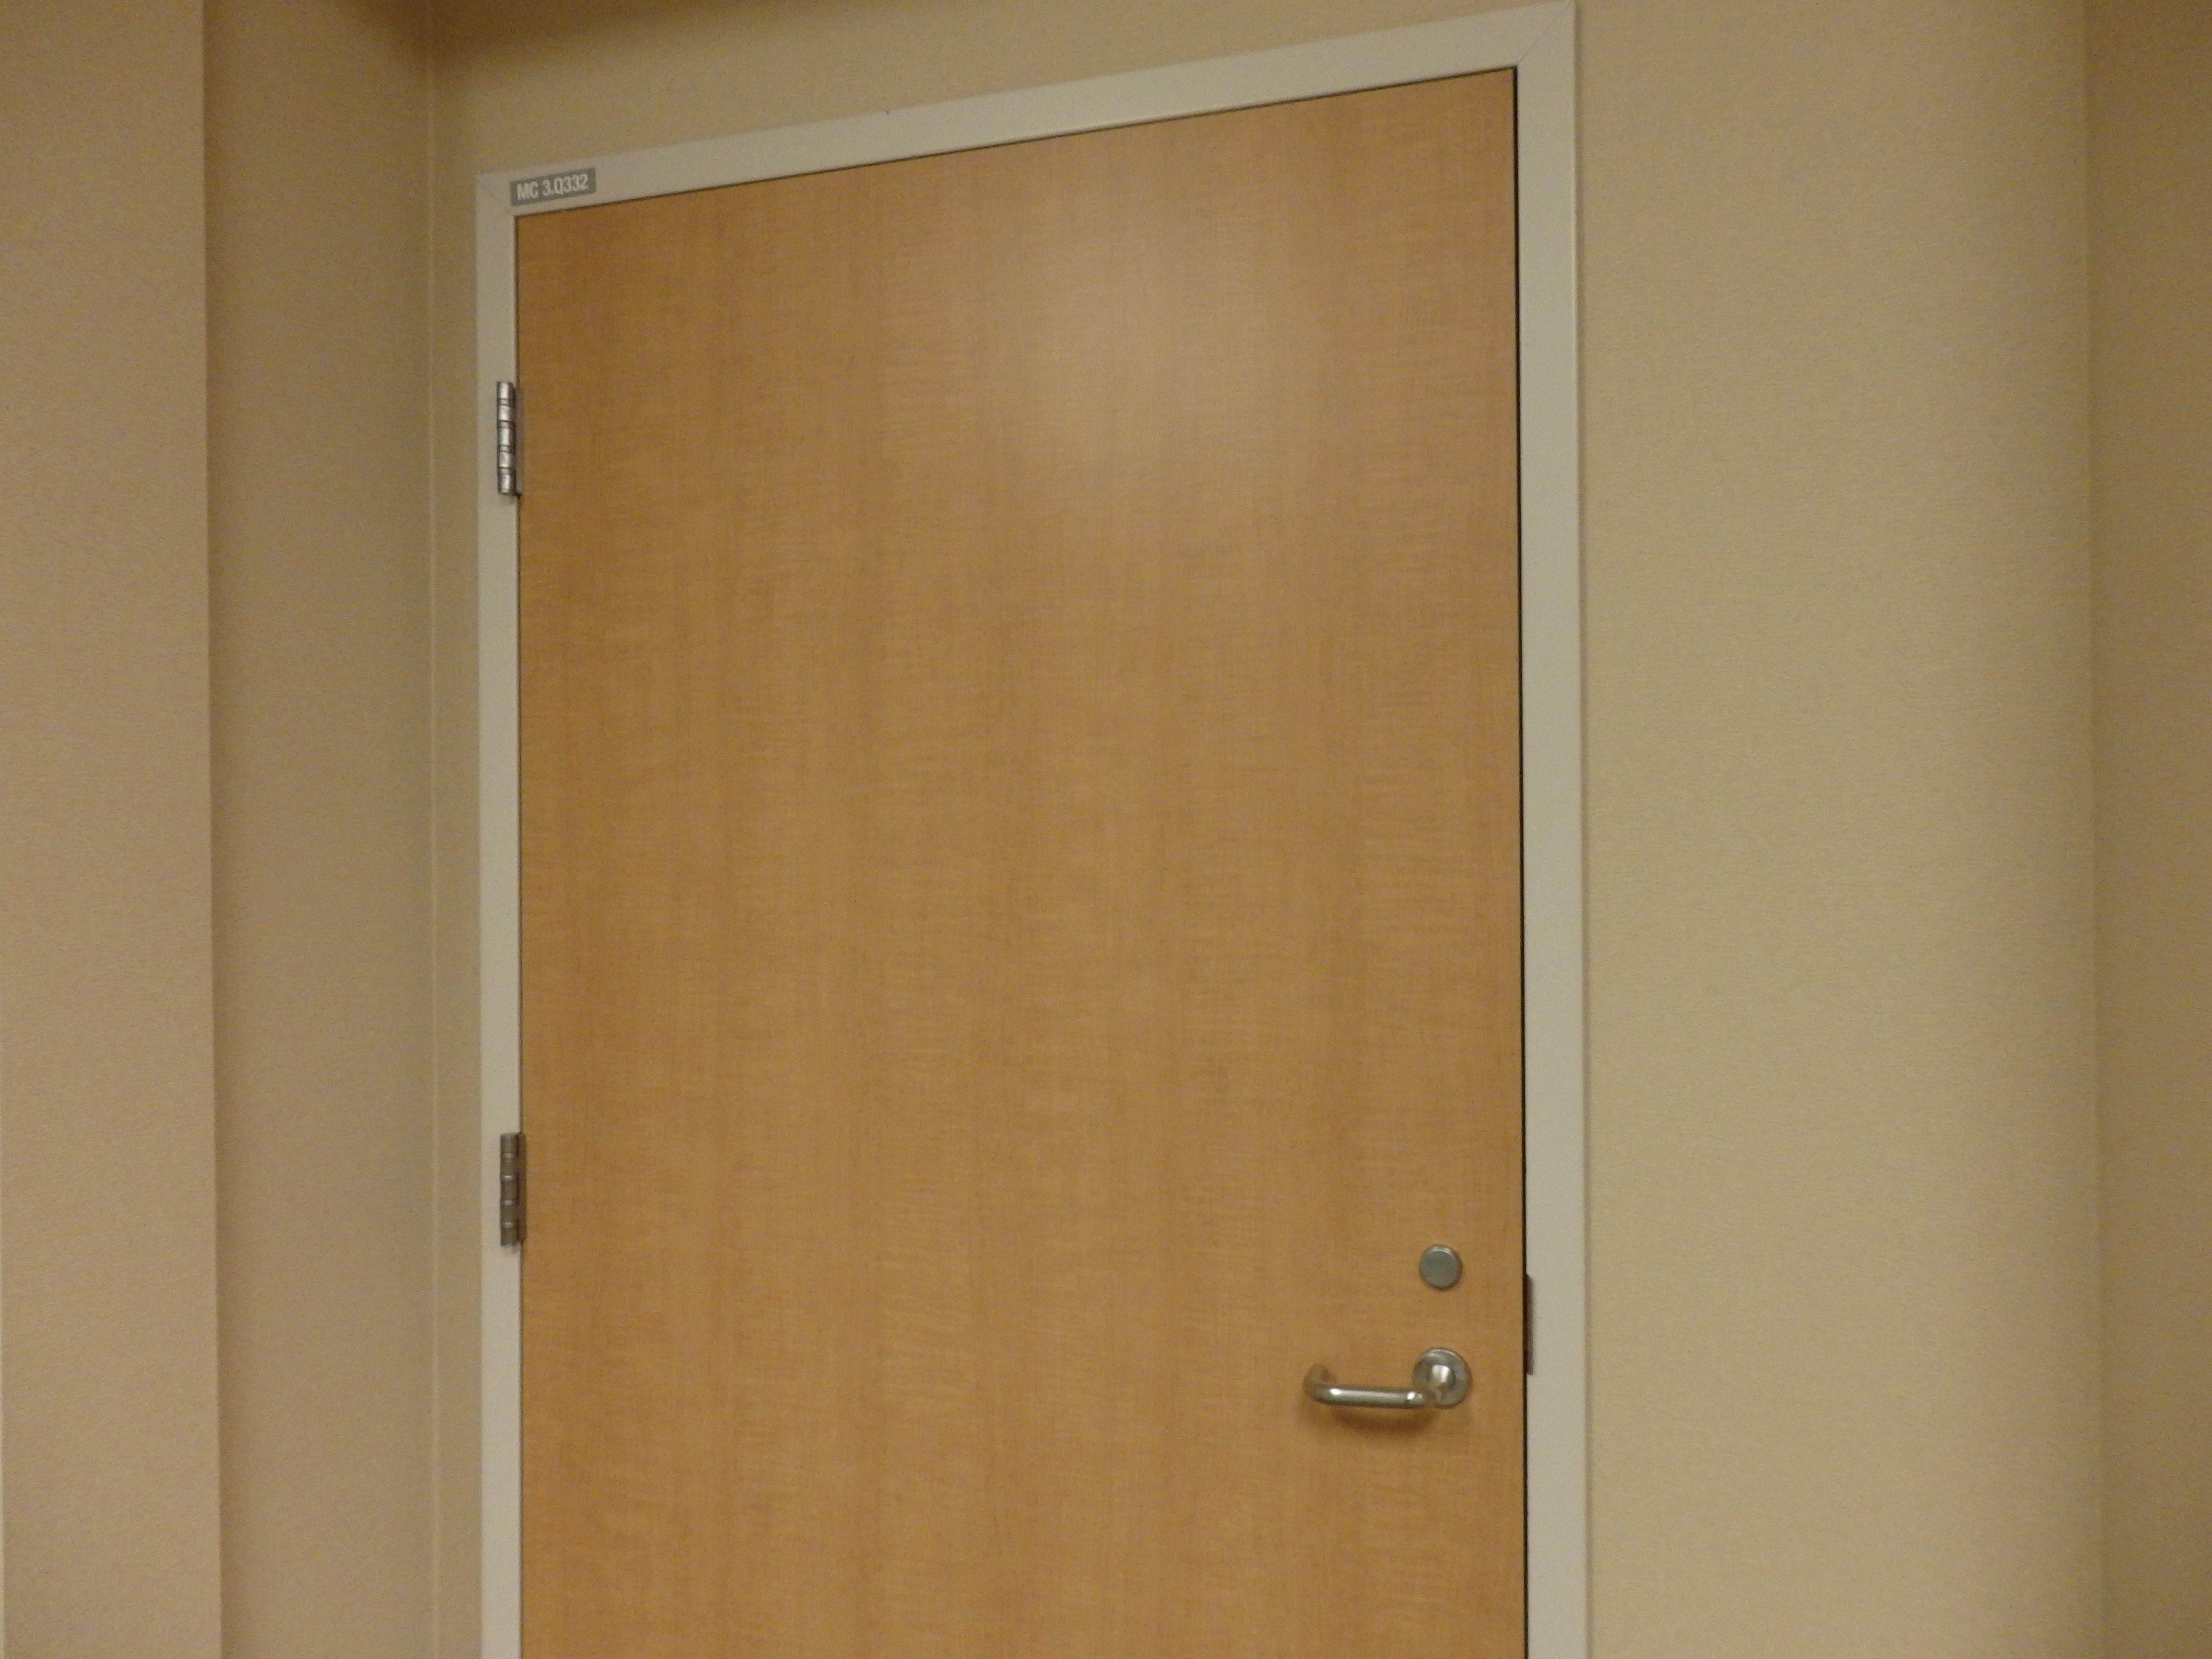door: (496, 64, 1526, 1659)
